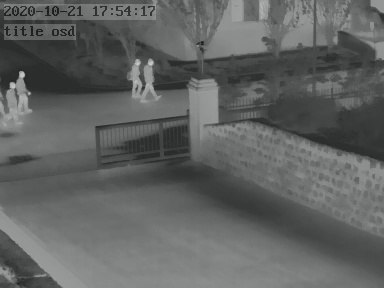person: (3, 81, 22, 125), (14, 70, 32, 113), (144, 57, 159, 103), (129, 56, 142, 96)
